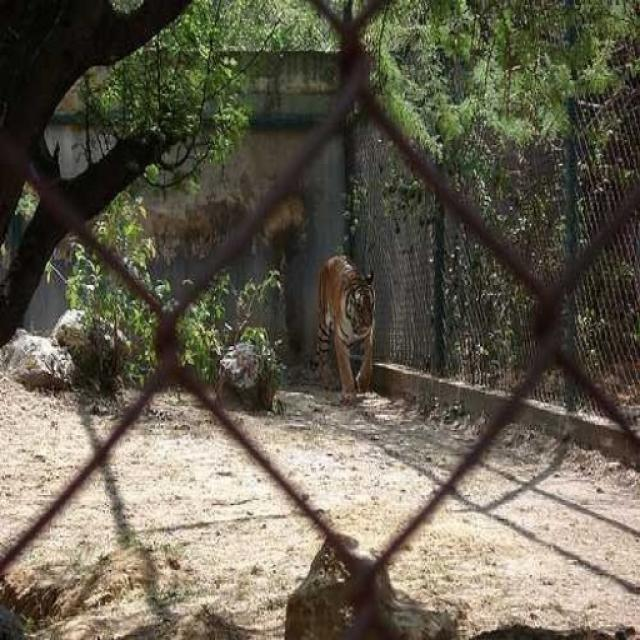tiger: (310, 253, 377, 404)
